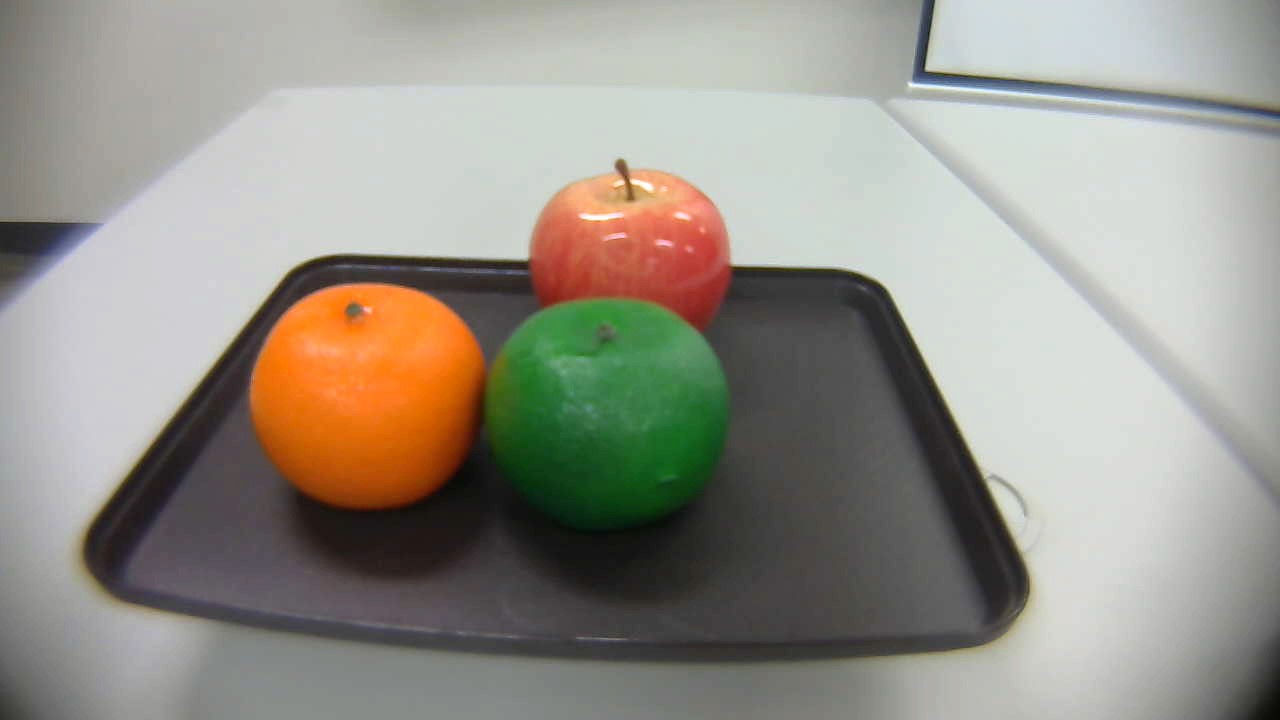green orange: (483, 290, 736, 537)
orange: (239, 284, 483, 509)
red apple: (520, 155, 739, 340)
